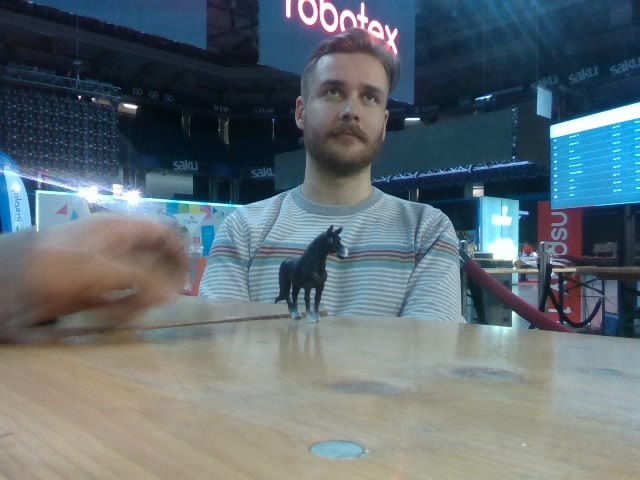toy: (276, 226, 348, 323)
